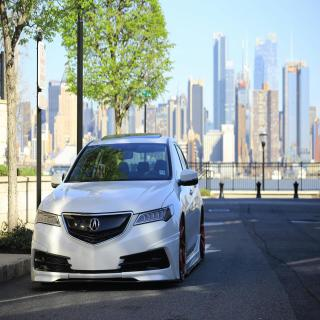Normal_vehicle: (30, 130, 207, 286)
